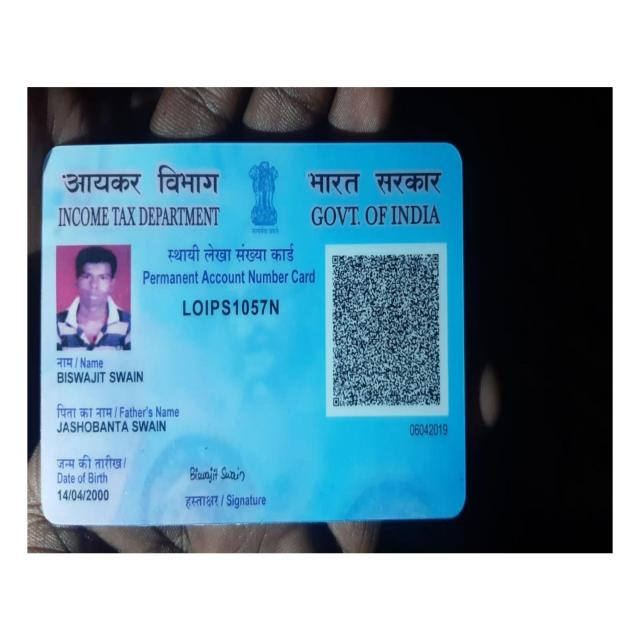pan_card: (41, 143, 467, 524)
